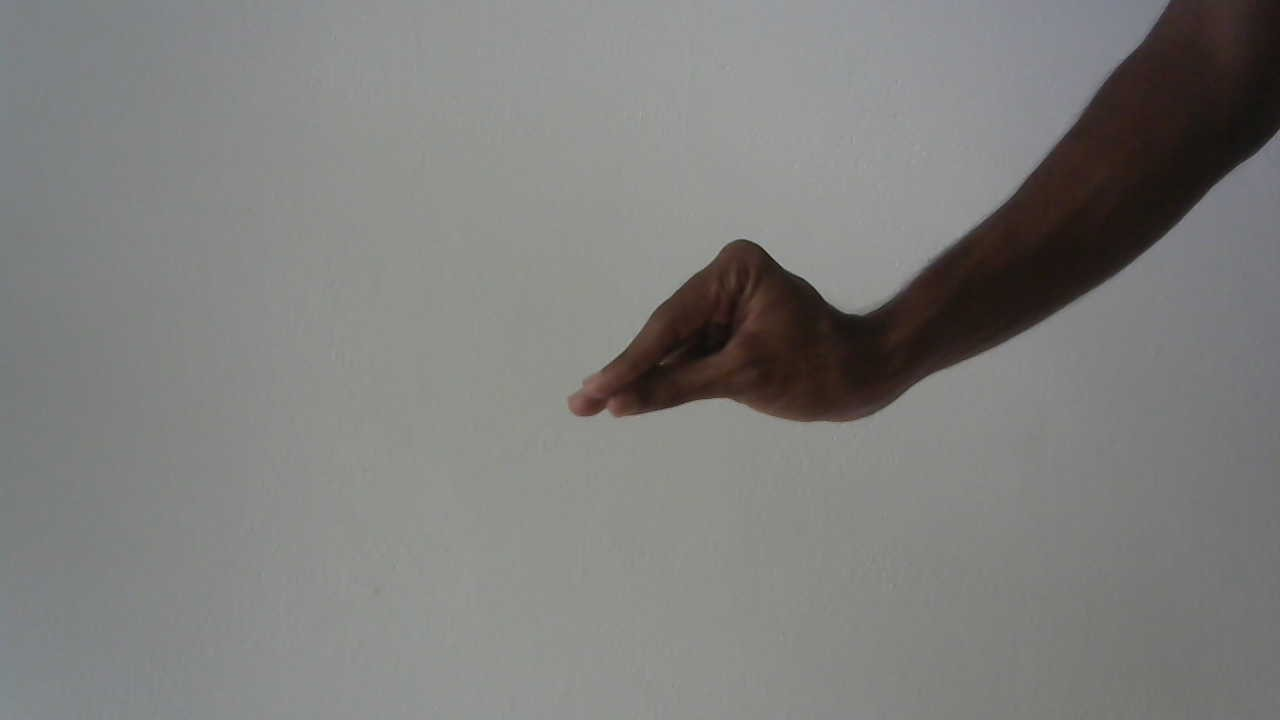no: (560, 221, 917, 439)
